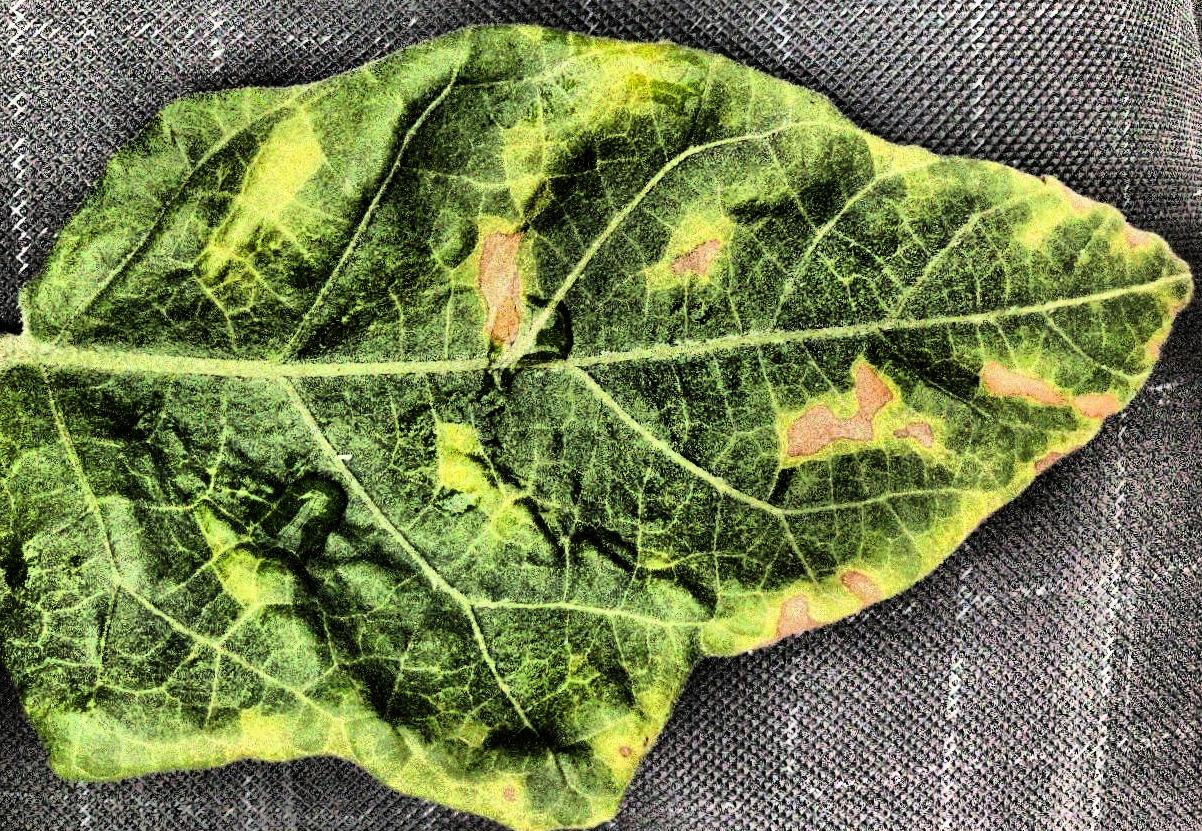Critical Stress: (1, 0, 1202, 831)
